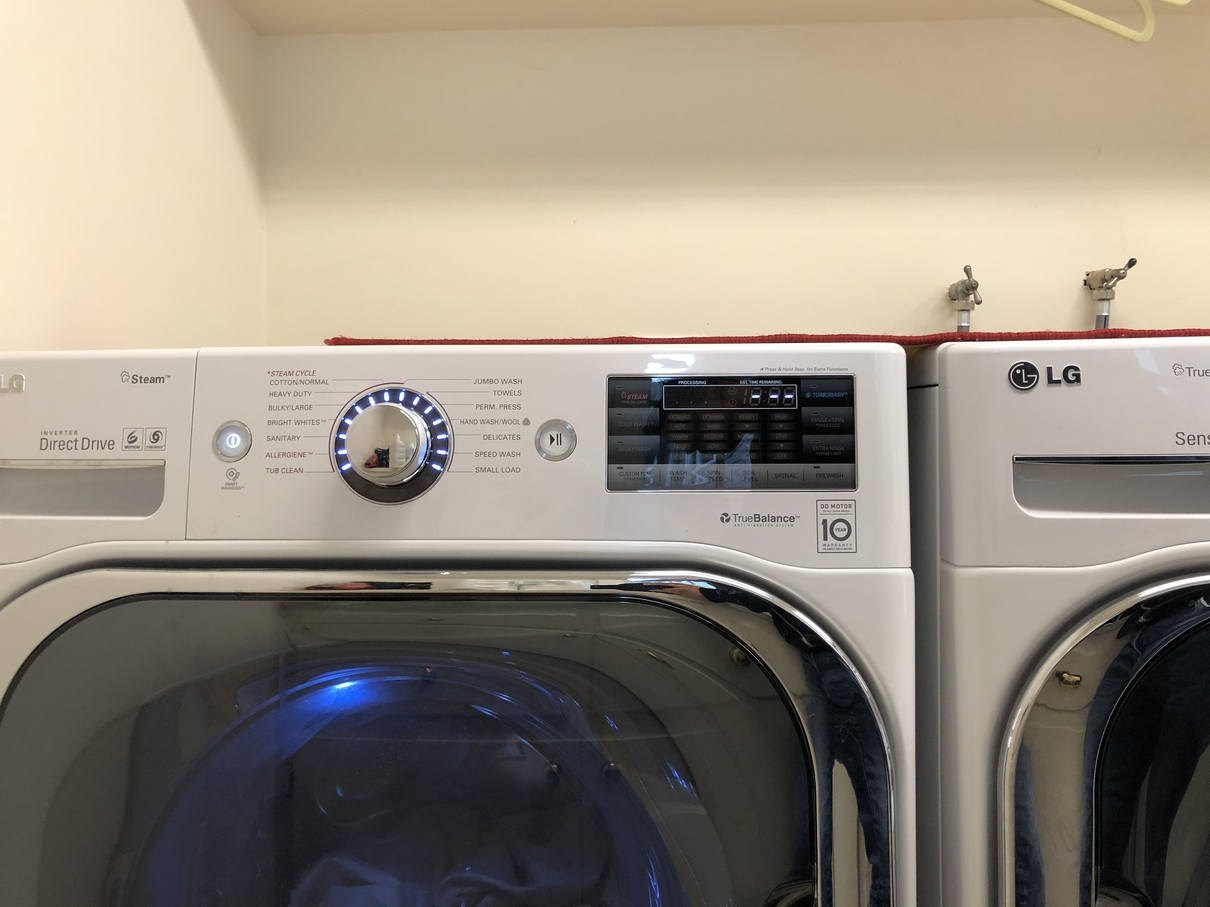status: (649, 374, 808, 418)
